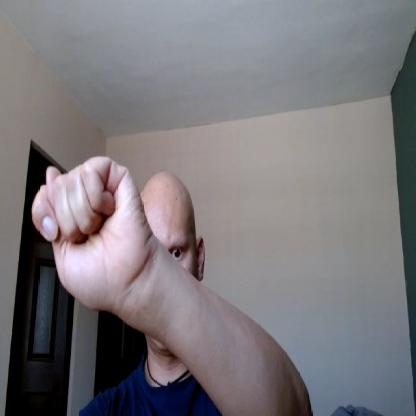T: (32, 154, 151, 306)
